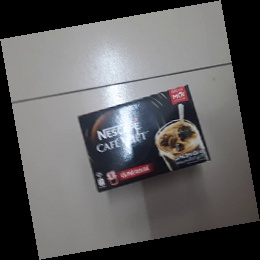CF Viet: (78, 81, 211, 195)
